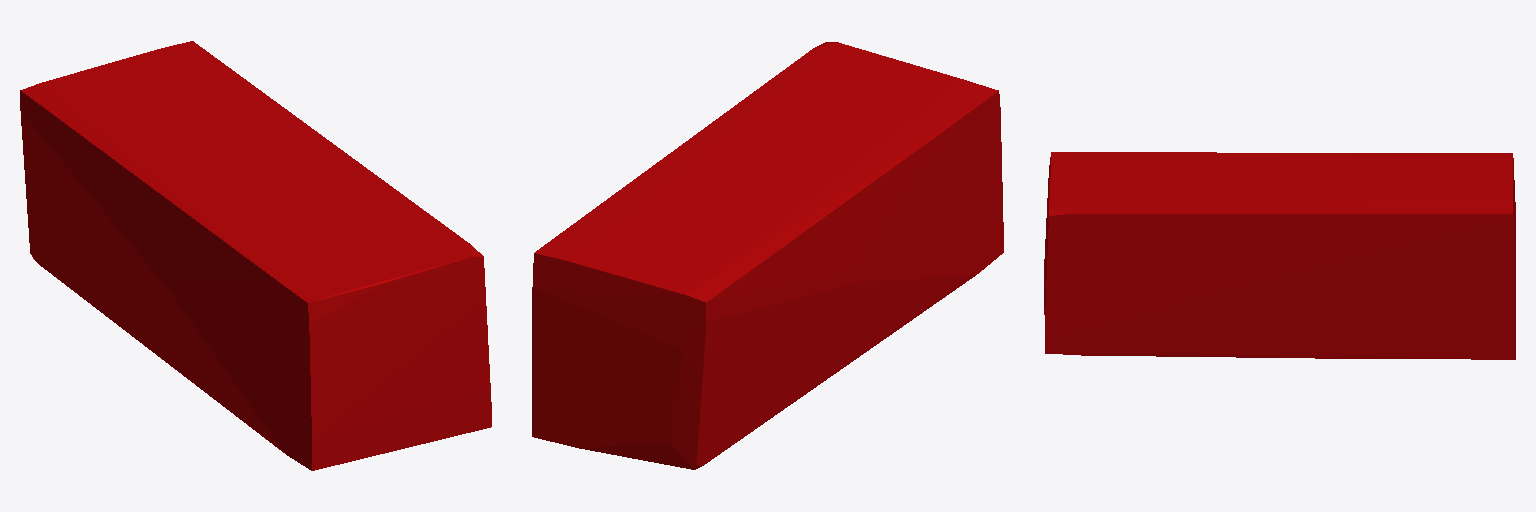
URDF robot description (blob009):
<robot name="blob009">
  <link name="random_obj_009">
    <contact>
      <lateral_friction value="1.0"/>
      <rolling_friction value="0.0"/>
      <inertia_scaling value="3.0"/>
      <contact_cfm value="0.0"/>
      <contact_erp value="1.0"/>
    </contact>
    <inertial>
      <origin rpy="0 0 0" xyz="0 0 0"/>
      <mass value="0.1"/>
      <inertia ixx="1" ixy="0" ixz="0" iyy="1" iyz="0" izz="0"/>
    </inertial>
    <visual>
      <origin rpy="0 0 0" xyz="0 0 0"/>
      <geometry>
        <mesh filename="package://meshes/goal/009.obj" scale="0.015 0.015 0.015"/>
      </geometry>
      <material name="blockmat">
        <color rgba="0.73 0.05 0.06 1"/>
      </material>
    </visual>
    <collision>
      <origin rpy="0 0 0" xyz="0 0 0"/>
      <geometry>
        <mesh filename="package://meshes/goal/009.obj" scale="0.015 0.015 0.015"/>
      </geometry>
    </collision>
  </link>
</robot>

--- What the picture shows (computed from the rendered views, not written in the file) ---
The picture shows the robot from 3 angles, left to right: view 1: azimuth 30°, elevation 25°; view 2: azimuth 150°, elevation 25°; view 3: azimuth 270°, elevation 25°; orthographic projection.
Model blob009 with 1 links and 0 joints (none), rooted at random_obj_009, posed every joint at zero.
Links seen in each view (by area): view 1: random_obj_009; view 2: random_obj_009; view 3: random_obj_009.
Boxes of the visible links, x1,y1,x2,y2 form: random_obj_009: (20,41,491,470); random_obj_009: (532,42,1003,469); random_obj_009: (1044,152,1515,359).
Size in the robot's own frame: 0.0323 by 0.0921 by 0.0314 metres.
Meshes: 1 distinct files referenced, 1 mesh visuals loaded (1 OBJ).